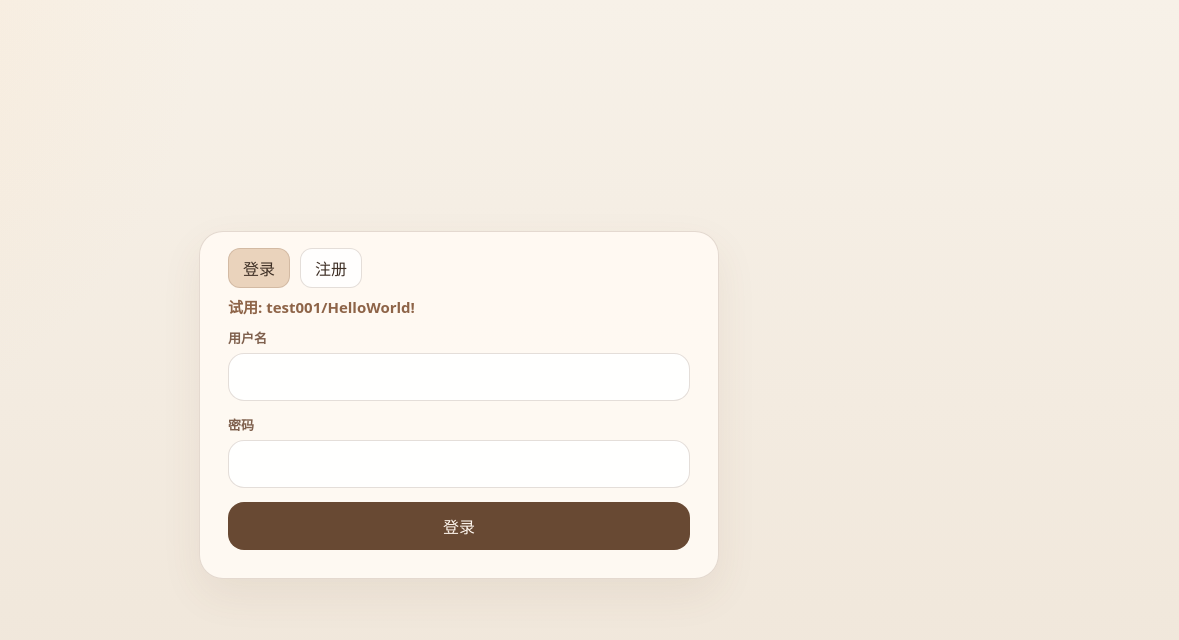
Test: LoginPage › shows localized validation error in toast
Click the button "注册" at (331, 268), box [300, 248, 362, 288]
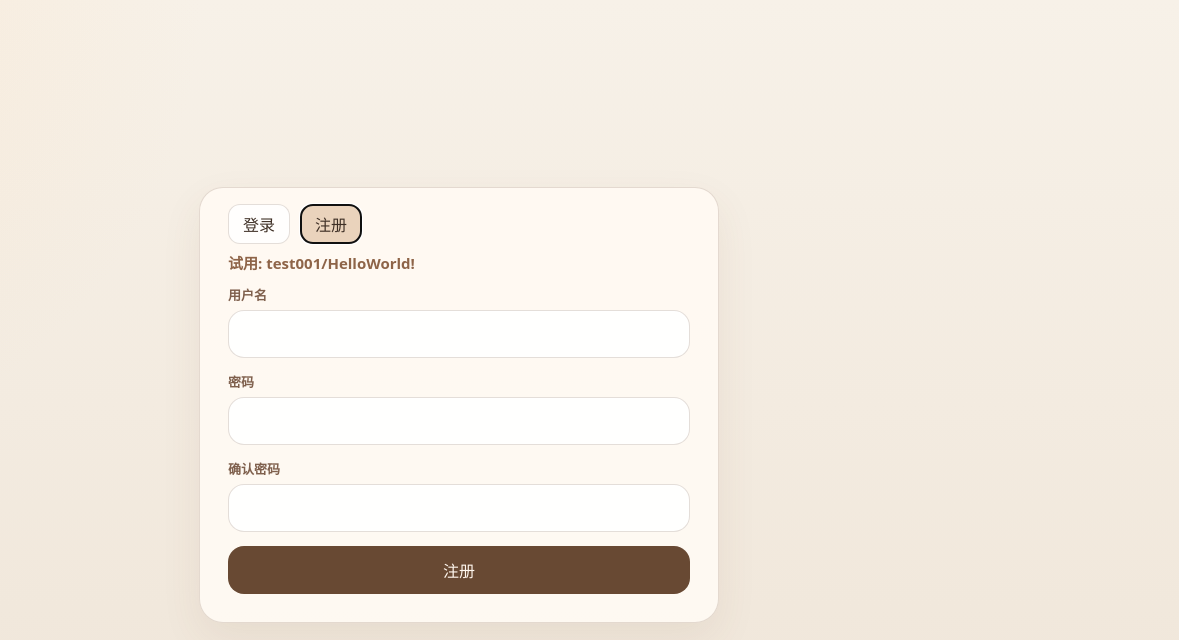
Now the text "确认密码" is shown, box [228, 460, 280, 478]
Type "test001" into the field labelled "用户名" at (459, 334), box [228, 310, 690, 358]
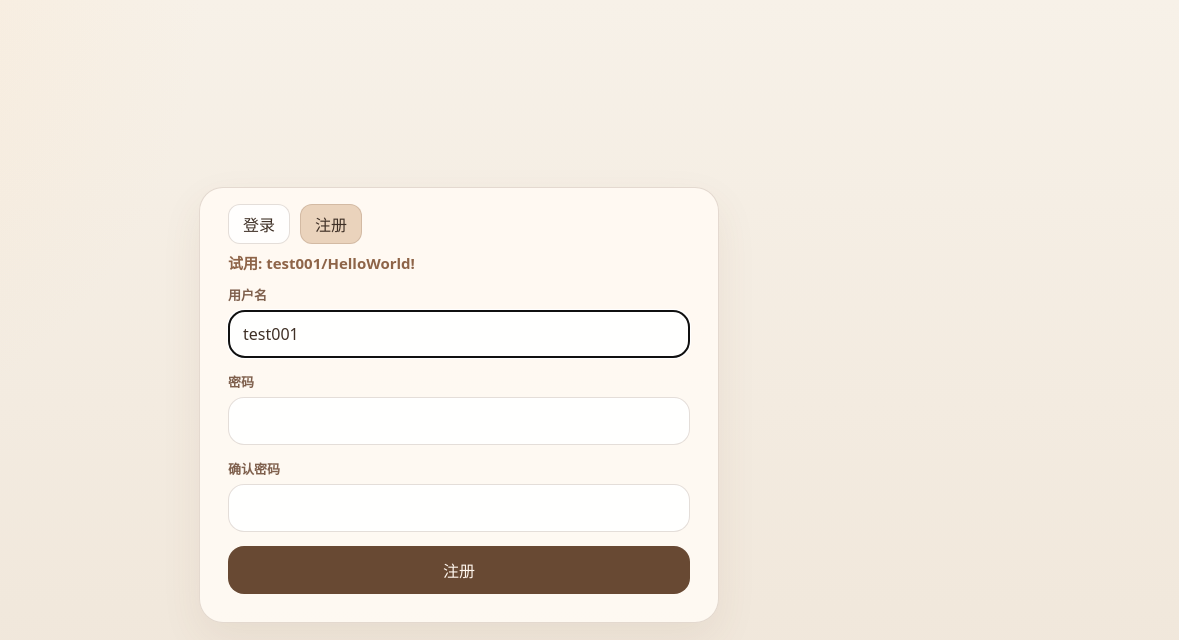
Type "lili" into the password field labelled "密码" at (459, 421), box [228, 397, 690, 445]
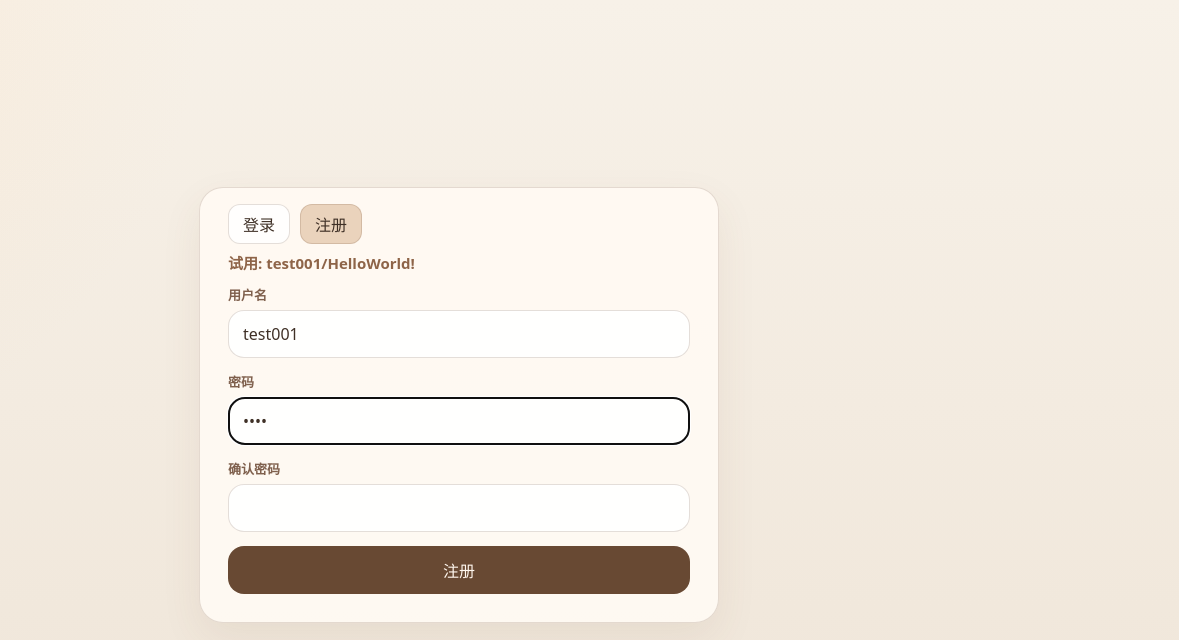
Type "lili" into the password field labelled "确认密码" at (459, 508), box [228, 484, 690, 532]
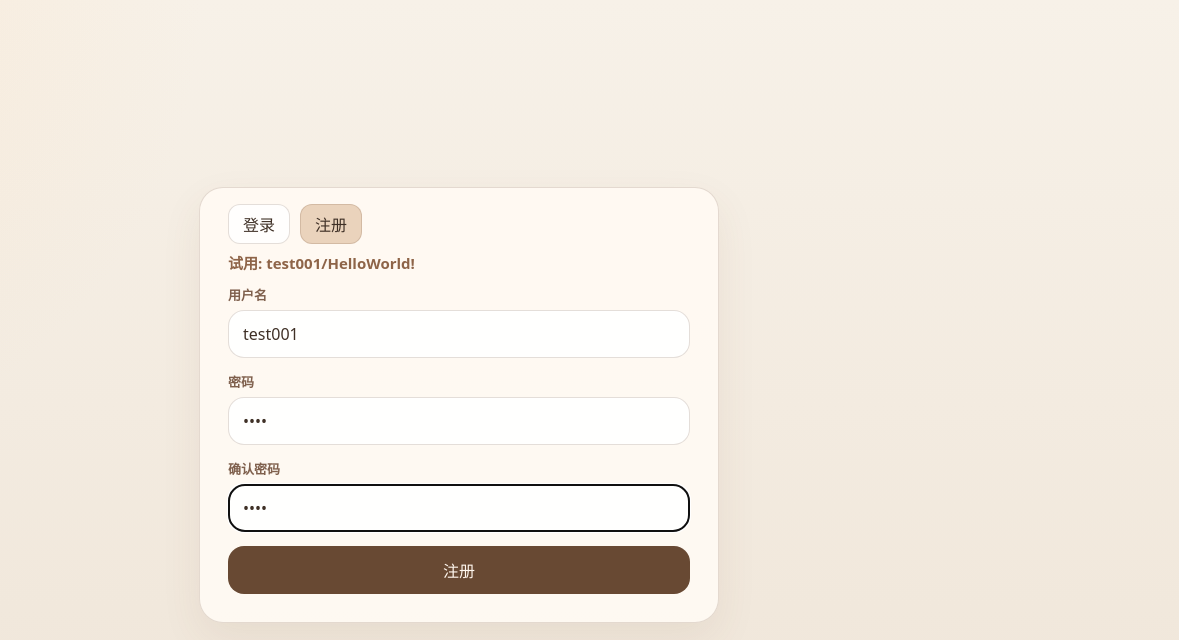
Click the button "注册" below "确认密码" at (459, 570), box [228, 546, 690, 594]
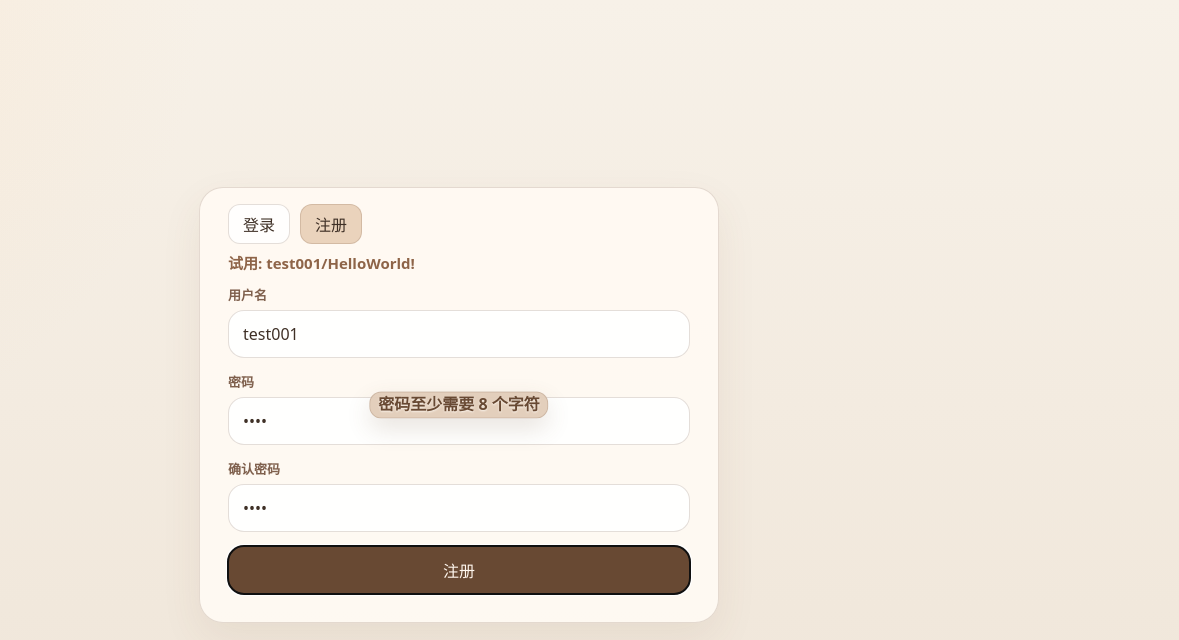
Now the text "密码至少需要 8 个字符" is shown, box [378, 395, 540, 415]
